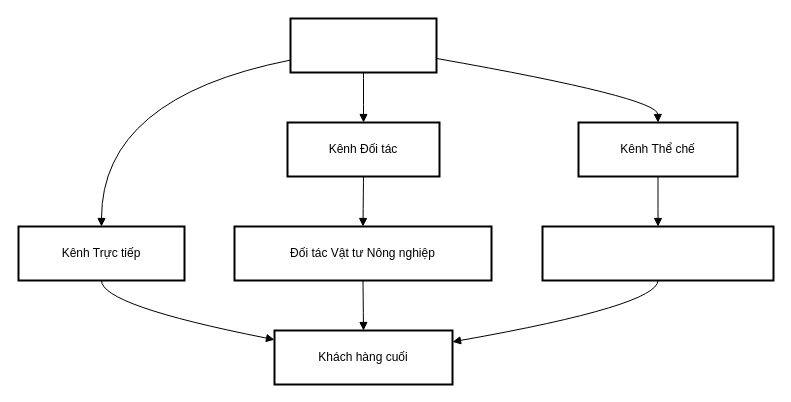
Image size: 791x402. Some labels were removed from this diagram. The centre of each missing label's shape, as x and y in pixels:
AGRI VISION: point (363, 45)
Hiệp hội / Khuyến nông: point (657, 253)
